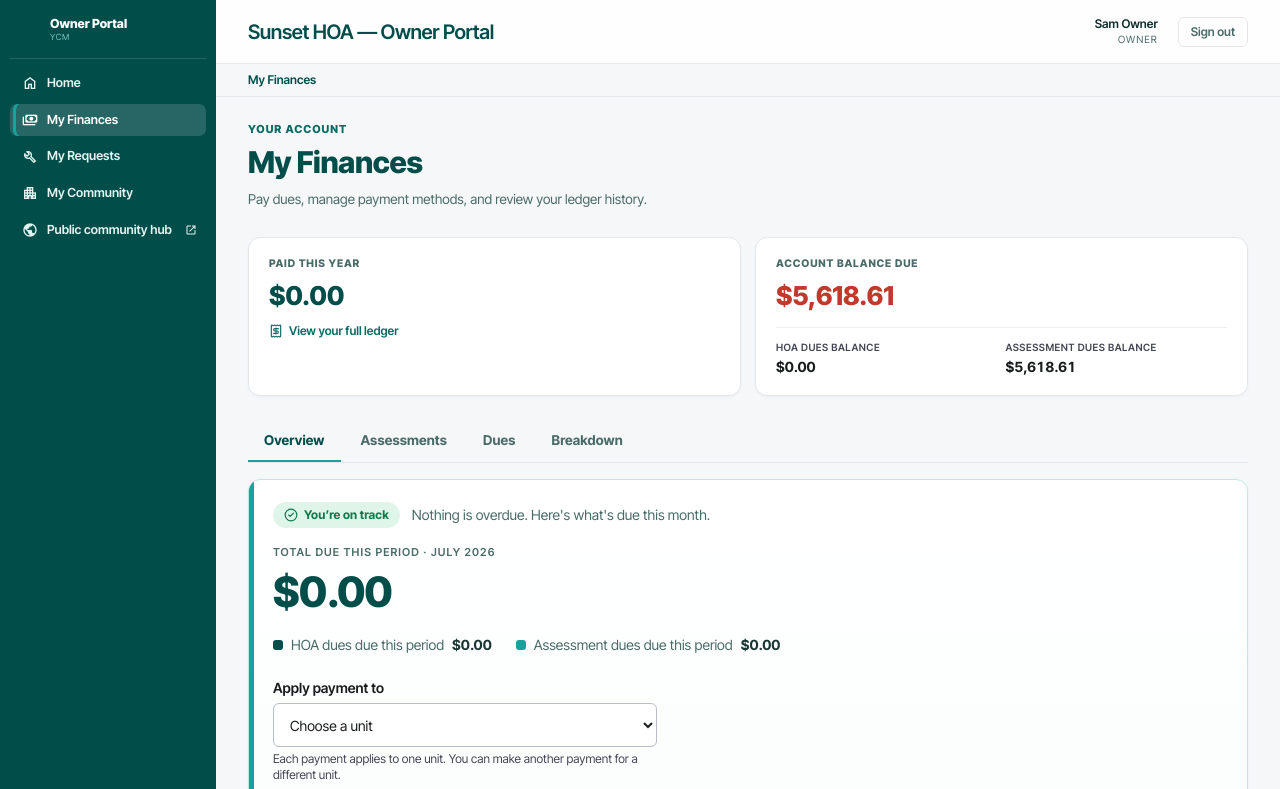
Test: Portal Finances — per-unit hierarchical breakdown (2026-05-25) › renders the transposed per-unit table (units as columns) with dues/assessment split
Expected: the heading "My Finances" is shown, [248,144,423,180]
Note: 2026-07-14 redesign — the by-unit table moved to the Breakdown tab.
Click the tab with test id "portal-finances-tab-breakdown" at (587, 440), box [536,420,639,462]
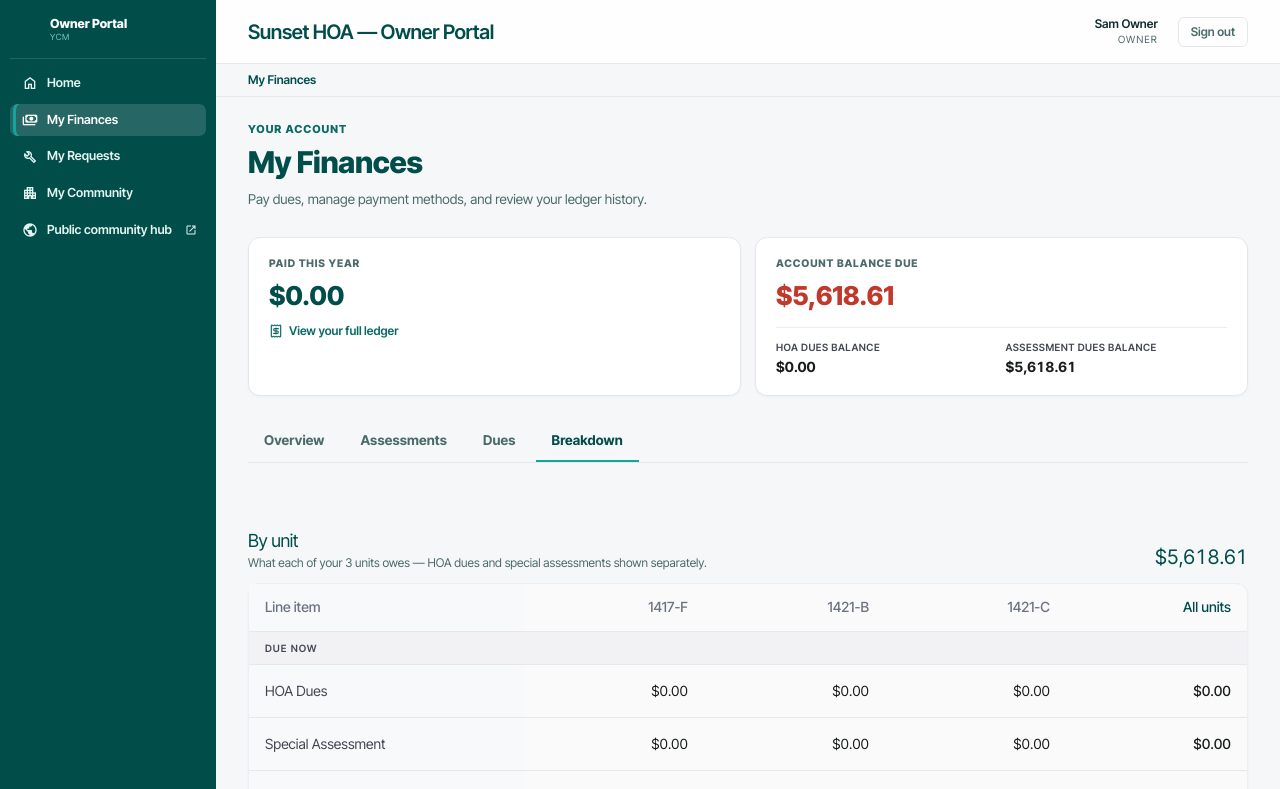
Now the column heading with test id "portal-finances-transpose-col-u-1417F" reads "1417-F", box [648,598,688,615]
Now the column heading with test id "portal-finances-transpose-col-u-1421B" reads "1421-B", box [828,598,869,615]
Now the column heading with test id "portal-finances-transpose-col-u-1421C" reads "1421-C", box [1008,598,1050,615]
